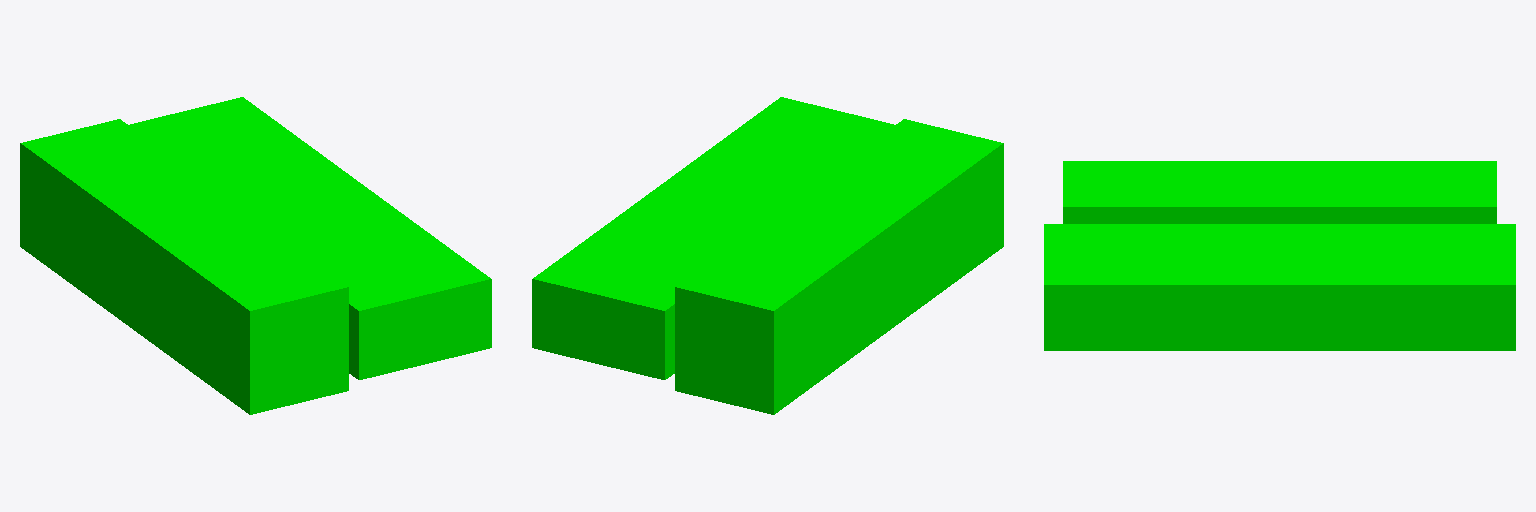
robot.urdf — robot:
<robot name = "robot">
    <link name="root">
        <inertial>
            <origin xyz="0.0 0.0 1.5" rpy="0 0 0"/>
            <mass value="1" />
            <inertia ixx="100" ixy="0" ixz="0" iyy="100" iyz="0" izz="100" />
        </inertial>
        <visual>
            <origin xyz="0.0 0.0 1.5" rpy="0 0 0"/>
            <geometry>
                <box size="0 0 0.0001" />
            </geometry>
            <material name="Green">
                <color rgba="0 1.0 0.0 1.0"/>
            </material>
        </visual>
        <collision>
            <origin xyz="0.0 0.0 1.5" rpy="0 0 0"/>
            <geometry>
                <box size="0 0 0.0001" />
            </geometry>
        </collision>
    </link>
    <joint name="root_000" type="revolute">
       <parent link="root"/>
       <child  link="000"/>
       <origin rpy="0 0 0" xyz="0.0 0.0 1.5" />
     <axis xyz="1 0 0"/>
       <limit effort="0.0" lower="-3.14159" upper="3.14159" velocity="0.0"/>
    </joint>
    <link name="000">
        <inertial>
            <origin xyz="0.0 0.3 0.0" rpy="0 0 0"/>
            <mass value="1" />
            <inertia ixx="100" ixy="0" ixz="0" iyy="100" iyz="0" izz="100" />
        </inertial>
        <visual>
            <origin xyz="0.0 0.3 0.0" rpy="0 0 0"/>
            <geometry>
                <box size="0.3 0.6 0.3" />
            </geometry>
            <material name="Green">
                <color rgba="0 1.0 0.0 1.0"/>
            </material>
        </visual>
        <collision>
            <origin xyz="0.0 0.3 0.0" rpy="0 0 0"/>
            <geometry>
                <box size="0.3 0.6 0.3" />
            </geometry>
        </collision>
    </link>
    <joint name="000_010" type="revolute">
       <parent link="000"/>
       <child  link="010"/>
       <origin rpy="0 0 0" xyz="0.0 0.6 -0.0" />
     <axis xyz="0 1 0"/>
       <limit effort="0.0" lower="-3.14159" upper="3.14159" velocity="0.0"/>
    </joint>
    <link name="010">
        <inertial>
            <origin xyz="0.0 0.3 -0.0" rpy="0 0 0"/>
            <mass value="1" />
            <inertia ixx="100" ixy="0" ixz="0" iyy="100" iyz="0" izz="100" />
        </inertial>
        <visual>
            <origin xyz="0.0 0.3 -0.0" rpy="0 0 0"/>
            <geometry>
                <box size="0.3 0.6 0.3" />
            </geometry>
            <material name="Green">
                <color rgba="0 1.0 0.0 1.0"/>
            </material>
        </visual>
        <collision>
            <origin xyz="0.0 0.3 -0.0" rpy="0 0 0"/>
            <geometry>
                <box size="0.3 0.6 0.3" />
            </geometry>
        </collision>
    </link>
    <joint name="010_010-100" type="revolute">
       <parent link="010"/>
       <child  link="010-100"/>
       <origin rpy="0 0 0" xyz="0.15 0.3 -0.0" />
     <axis xyz="1 0 0"/>
       <limit effort="0.0" lower="-3.14159" upper="3.14159" velocity="0.0"/>
    </joint>
    <link name="010-100">
        <inertial>
            <origin xyz="0.1 0.0 -0.0" rpy="0 0 0"/>
            <mass value="1" />
            <inertia ixx="100" ixy="0" ixz="0" iyy="100" iyz="0" izz="100" />
        </inertial>
        <visual>
            <origin xyz="0.1 0.0 -0.0" rpy="0 0 0"/>
            <geometry>
                <box size="0.2 0.7 0.2" />
            </geometry>
            <material name="Green">
                <color rgba="0 1.0 0.0 1.0"/>
            </material>
        </visual>
        <collision>
            <origin xyz="0.1 0.0 -0.0" rpy="0 0 0"/>
            <geometry>
                <box size="0.2 0.7 0.2" />
            </geometry>
        </collision>
    </link>
    <joint name="010-100_010-110" type="revolute">
       <parent link="010-100"/>
       <child  link="010-110"/>
       <origin rpy="0 0 0" xyz="0.2 0.0 -0.0" />
     <axis xyz="1 0 0"/>
       <limit effort="0.0" lower="-3.14159" upper="3.14159" velocity="0.0"/>
    </joint>
    <link name="010-110">
        <inertial>
            <origin xyz="0.1 0.0 -0.0" rpy="0 0 0"/>
            <mass value="1" />
            <inertia ixx="100" ixy="0" ixz="0" iyy="100" iyz="0" izz="100" />
        </inertial>
        <visual>
            <origin xyz="0.1 0.0 -0.0" rpy="0 0 0"/>
            <geometry>
                <box size="0.2 0.7 0.2" />
            </geometry>
            <material name="Green">
                <color rgba="0 1.0 0.0 1.0"/>
            </material>
        </visual>
        <collision>
            <origin xyz="0.1 0.0 -0.0" rpy="0 0 0"/>
            <geometry>
                <box size="0.2 0.7 0.2" />
            </geometry>
        </collision>
    </link>
    <joint name="000_000-100" type="revolute">
       <parent link="000"/>
       <child  link="000-100"/>
       <origin rpy="0 0 0" xyz="0.15 0.3 -0.0" />
     <axis xyz="1 0 0"/>
       <limit effort="0.0" lower="-3.14159" upper="3.14159" velocity="0.0"/>
    </joint>
    <link name="000-100">
        <inertial>
            <origin xyz="0.1 0.0 -0.0" rpy="0 0 0"/>
            <mass value="1" />
            <inertia ixx="100" ixy="0" ixz="0" iyy="100" iyz="0" izz="100" />
        </inertial>
        <visual>
            <origin xyz="0.1 0.0 -0.0" rpy="0 0 0"/>
            <geometry>
                <box size="0.2 0.7 0.2" />
            </geometry>
            <material name="Green">
                <color rgba="0 1.0 0.0 1.0"/>
            </material>
        </visual>
        <collision>
            <origin xyz="0.1 0.0 -0.0" rpy="0 0 0"/>
            <geometry>
                <box size="0.2 0.7 0.2" />
            </geometry>
        </collision>
    </link>
    <joint name="000-100_000-110" type="revolute">
       <parent link="000-100"/>
       <child  link="000-110"/>
       <origin rpy="0 0 0" xyz="0.2 0.0 -0.0" />
     <axis xyz="1 0 0"/>
       <limit effort="0.0" lower="-3.14159" upper="3.14159" velocity="0.0"/>
    </joint>
    <link name="000-110">
        <inertial>
            <origin xyz="0.1 0.0 -0.0" rpy="0 0 0"/>
            <mass value="1" />
            <inertia ixx="100" ixy="0" ixz="0" iyy="100" iyz="0" izz="100" />
        </inertial>
        <visual>
            <origin xyz="0.1 0.0 -0.0" rpy="0 0 0"/>
            <geometry>
                <box size="0.2 0.7 0.2" />
            </geometry>
            <material name="Green">
                <color rgba="0 1.0 0.0 1.0"/>
            </material>
        </visual>
        <collision>
            <origin xyz="0.1 0.0 -0.0" rpy="0 0 0"/>
            <geometry>
                <box size="0.2 0.7 0.2" />
            </geometry>
        </collision>
    </link>
</robot>

--- What the picture shows (computed from the rendered views, not written in the file) ---
3 views of the same robot in one strip: view 1: azimuth 30°, elevation 25°; view 2: azimuth 150°, elevation 25°; view 3: azimuth 270°, elevation 25° (orthographic).
Model robot with 7 links and 6 joints (6 revolute), rooted at root, posed all joints at 0.
Links seen in each view (by area): view 1: 000, 010, 000-110, 000-100, 010-110, 010-100; view 2: 010, 000, 010-110, 010-100, 000-110, 000-100; view 3: 010-110, 000-110, 000, 010, 010-100, 000-100.
Link boxes in pixels (x1,y1,x2,y2): 000: (135, 203, 348, 414); 010: (20, 119, 233, 330); 000-110: (295, 182, 491, 363); 000-100: (248, 198, 424, 379); 010-110: (177, 97, 374, 210); 010-100: (129, 113, 309, 222); 010: (675, 203, 888, 414); 000: (790, 119, 1003, 330); 010-110: (532, 181, 731, 363); 010-100: (599, 197, 775, 379); 000-110: (651, 97, 846, 209); 000-100: (715, 113, 894, 222); 010-110: (1262, 254, 1515, 350); 000-110: (1044, 254, 1297, 350); 000: (1063, 161, 1279, 223); 010: (1280, 161, 1496, 223); 010-100: (1262, 224, 1515, 253); 000-100: (1044, 224, 1297, 253).
Size in the robot's own frame: 0.7 by 1.3 by 0.3 metres.
Geometry: primitives only (box / cylinder / sphere), no mesh files.